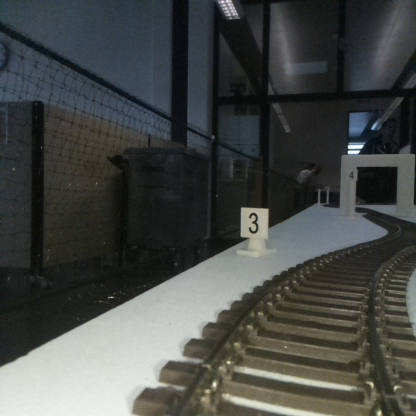white-info-4: (347, 166, 357, 211)
white-stop-3: (240, 208, 268, 254)
